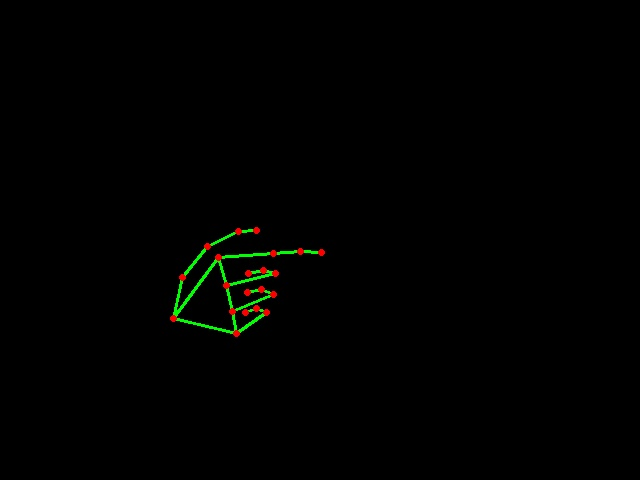left: (165, 215, 327, 346)
